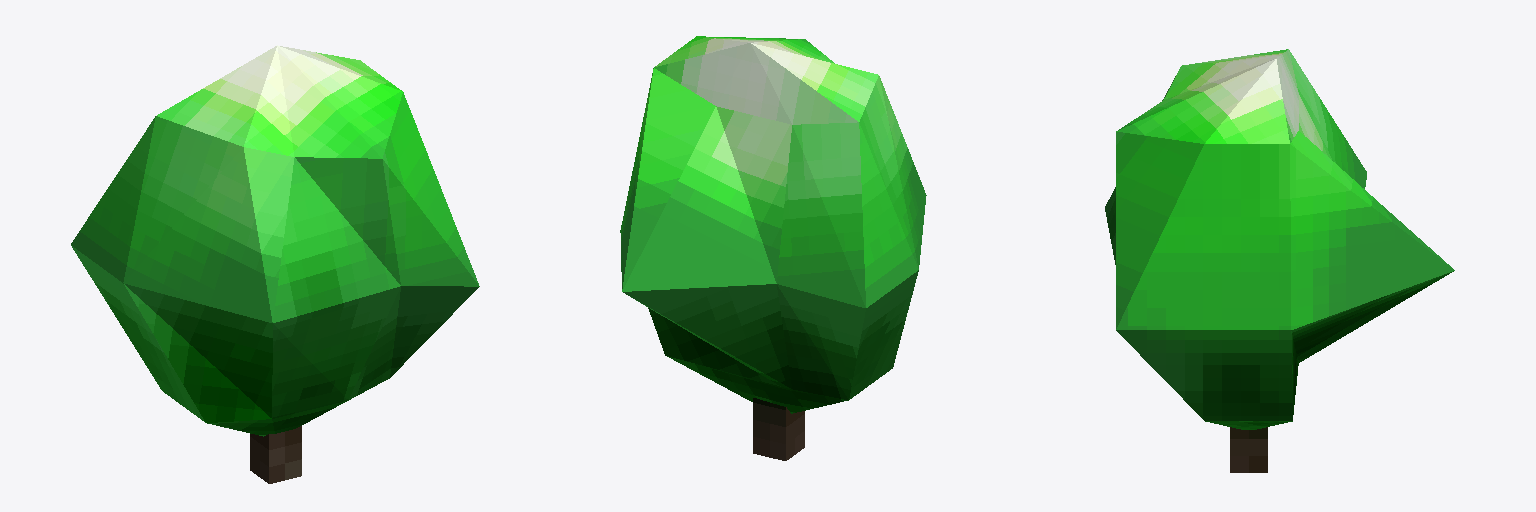
3 views of the same model, side by side, from view 1: azimuth 30°, elevation 25°; view 2: azimuth 150°, elevation 25°; view 3: azimuth 270°, elevation 25° (orthographic).
Parts seen in each view (by area): view 1: sphere, cuboid; view 2: sphere, cuboid; view 3: sphere, cuboid.
Boxes of the visible parts, x1=… form: sphere: x1=71, y1=45, x2=479, y2=436; cuboid: x1=250, y1=426, x2=301, y2=483; sphere: x1=620, y1=36, x2=926, y2=413; cuboid: x1=753, y1=398, x2=804, y2=460; sphere: x1=1105, y1=49, x2=1454, y2=429; cuboid: x1=1230, y1=427, x2=1267, y2=472.
Bounding box in the file's own units: 1.09 × 1.52 × 1.17.
Materials: 1 (1 with a texture image).